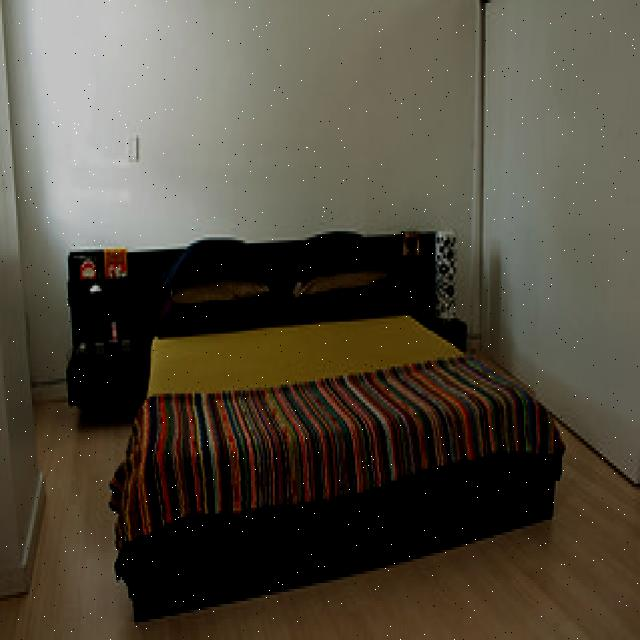bed: (116, 234, 561, 616)
